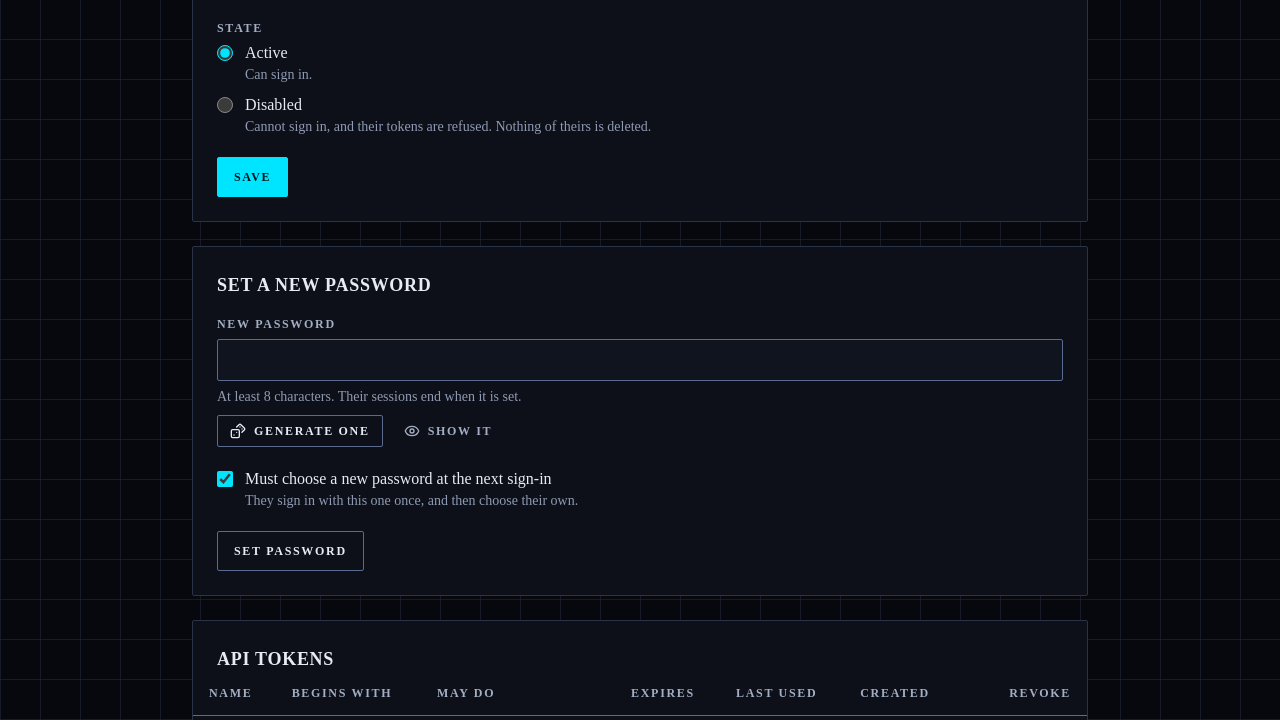
one user › is given a new password, typed or generated, which is to be passed on
(page scrolled)
Check: the heading "Set a new password" is shown, box [217,275,432,295]
Type "short" into the password field labelled "New password" at {"x": 640, "y": 360}, box [217,339,1063,381]
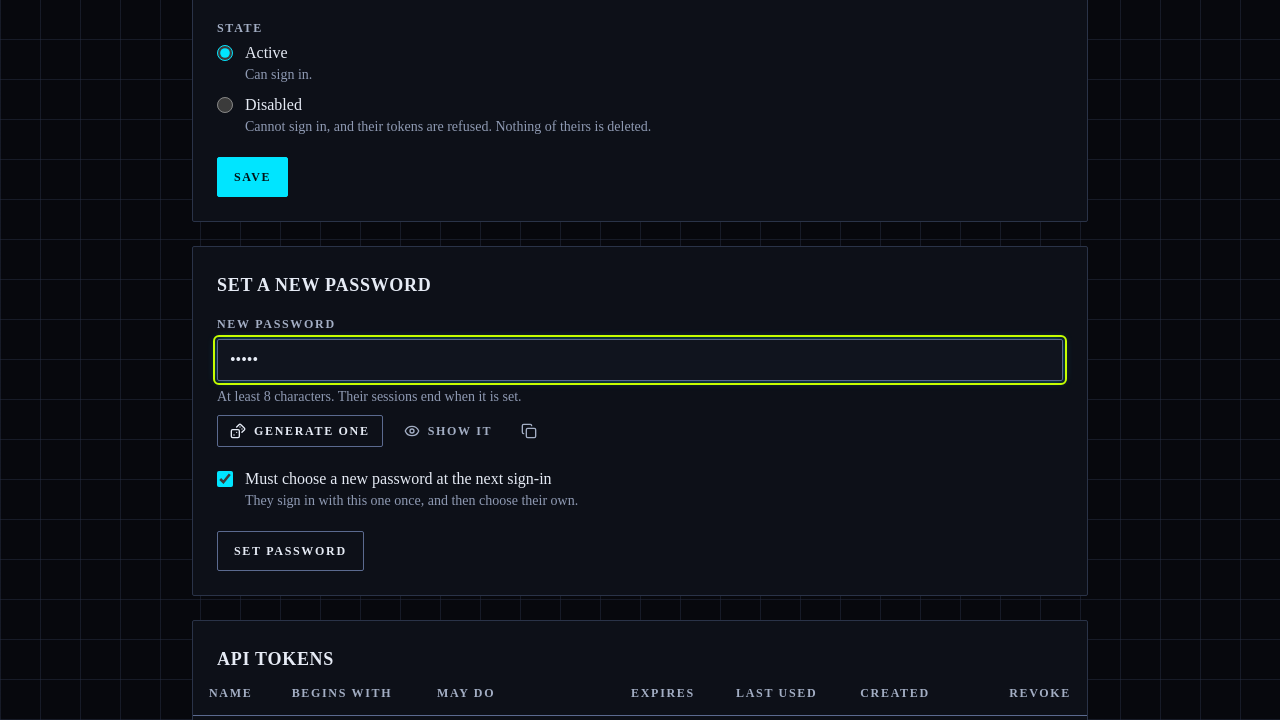
Click the button "Set password" at {"x": 290, "y": 551}, box [217,531,364,571]
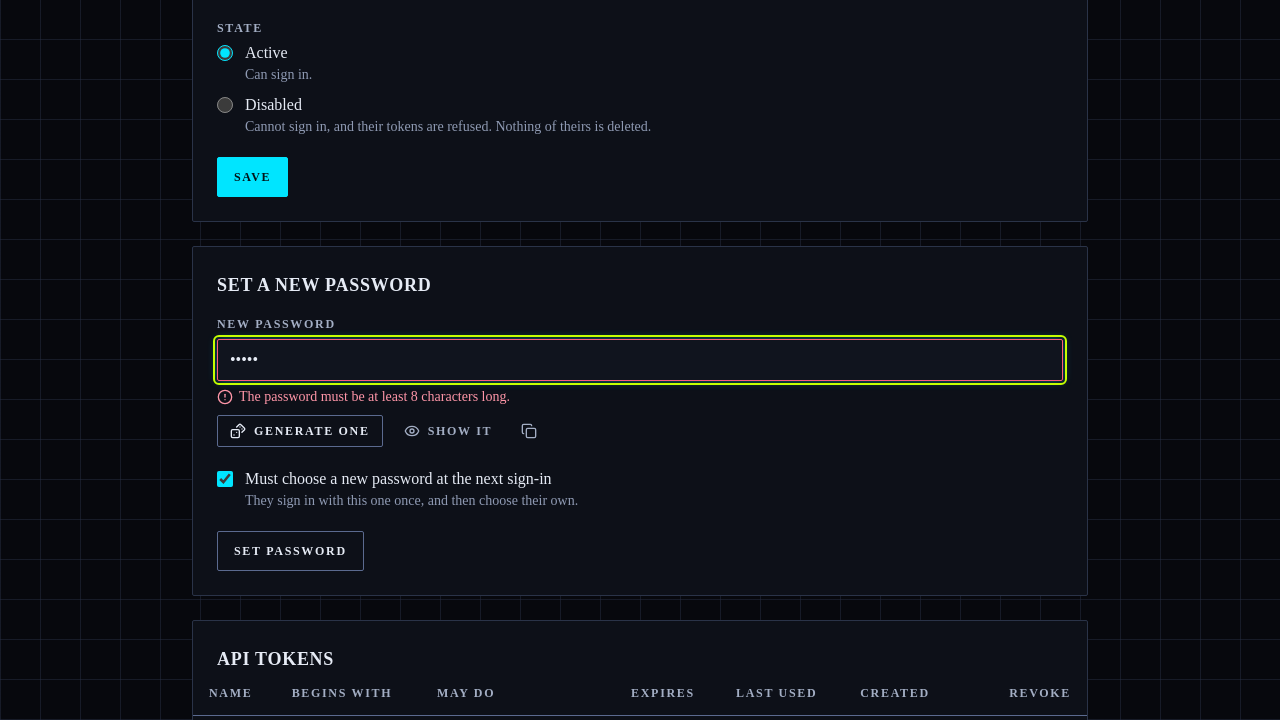
Click the button "Generate one" at {"x": 300, "y": 431}, box [217,415,383,447]
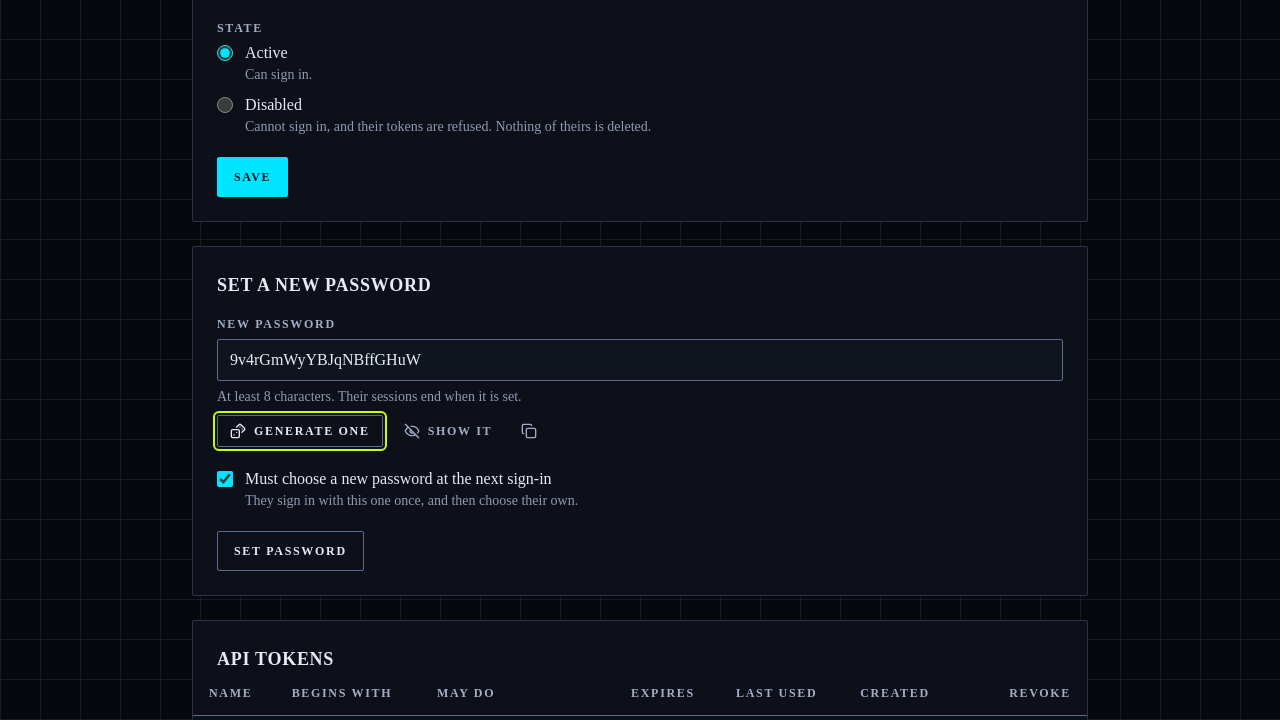
Click the checkbox labelled "Must choose a new password at the next sign-in" at {"x": 225, "y": 479}, box [217,471,233,487]
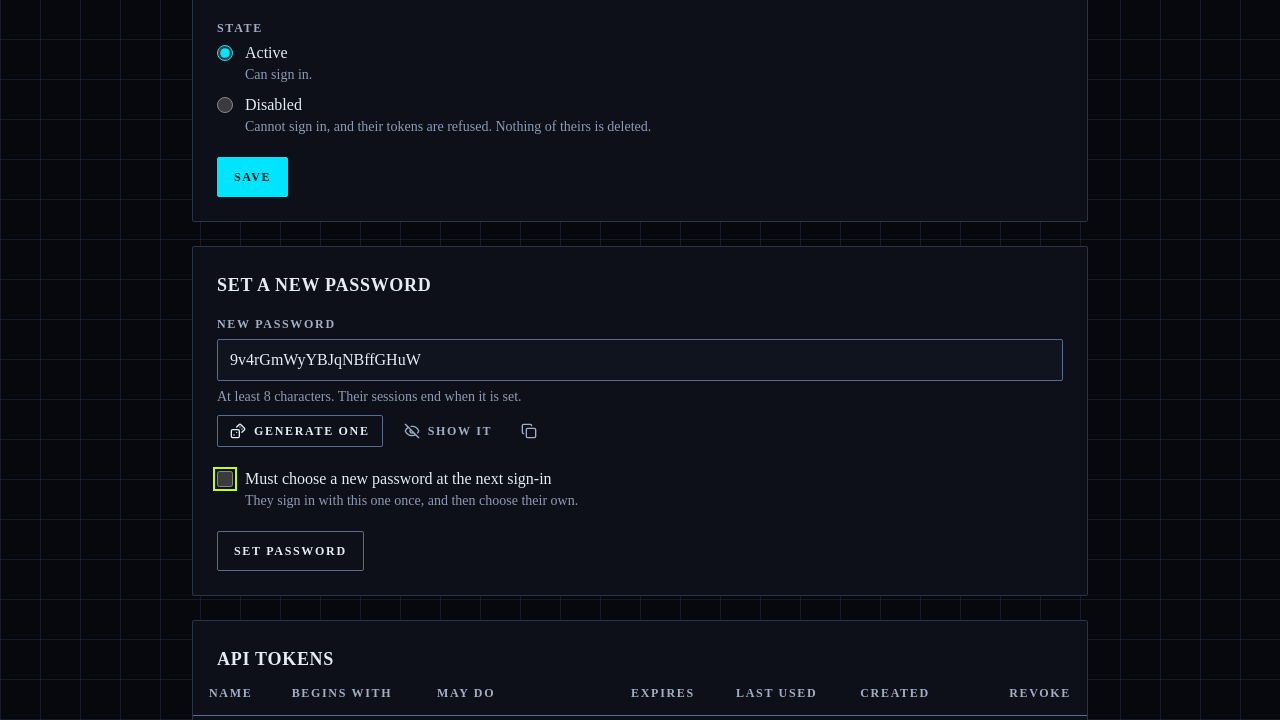
Click the button "Set password" at {"x": 290, "y": 551}, box [217,531,364,571]
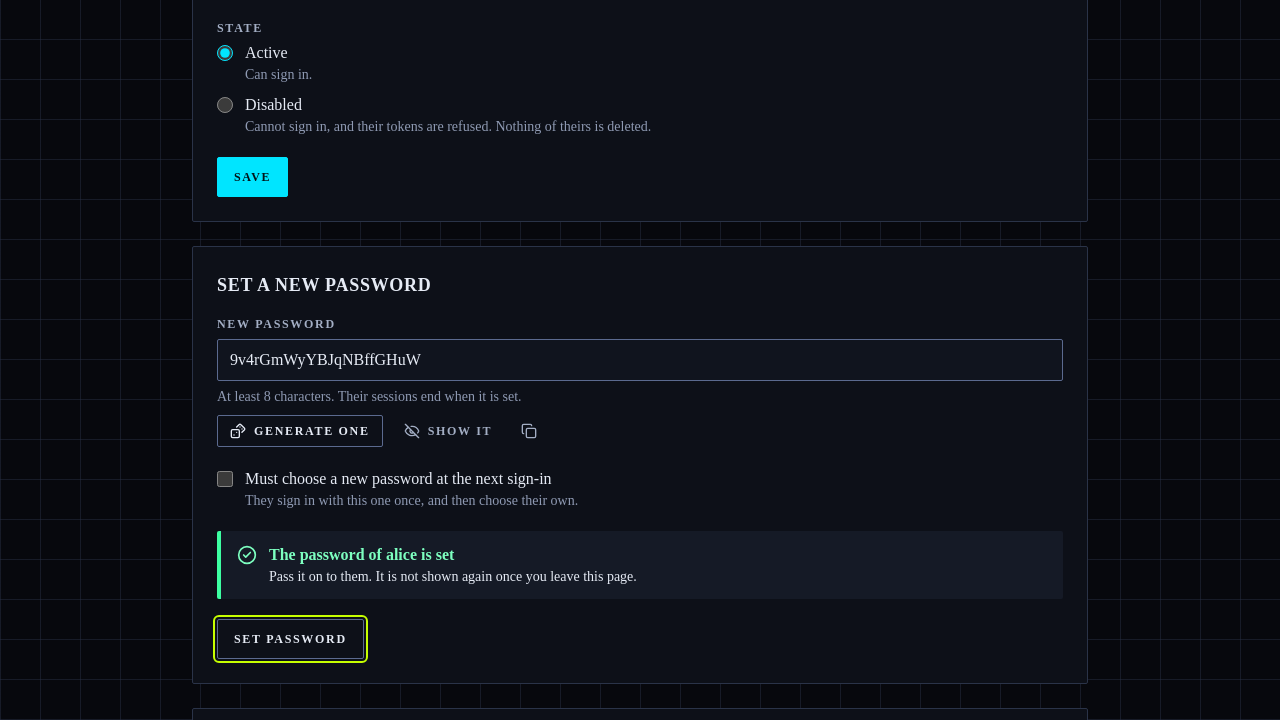
Check: the text "The password of alice is set" is shown, box [269,546,454,563]
